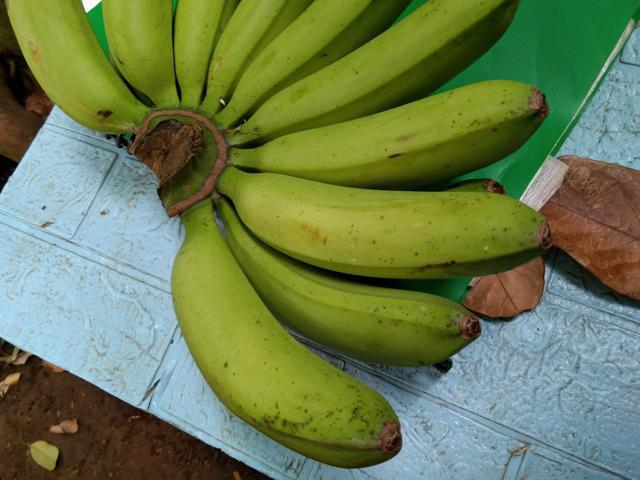freshunripe: (159, 229, 412, 470), (220, 206, 482, 378), (243, 0, 533, 133), (228, 163, 553, 273), (275, 73, 549, 177), (220, 0, 377, 127), (99, 0, 186, 96)
unripe: (0, 0, 127, 148)
